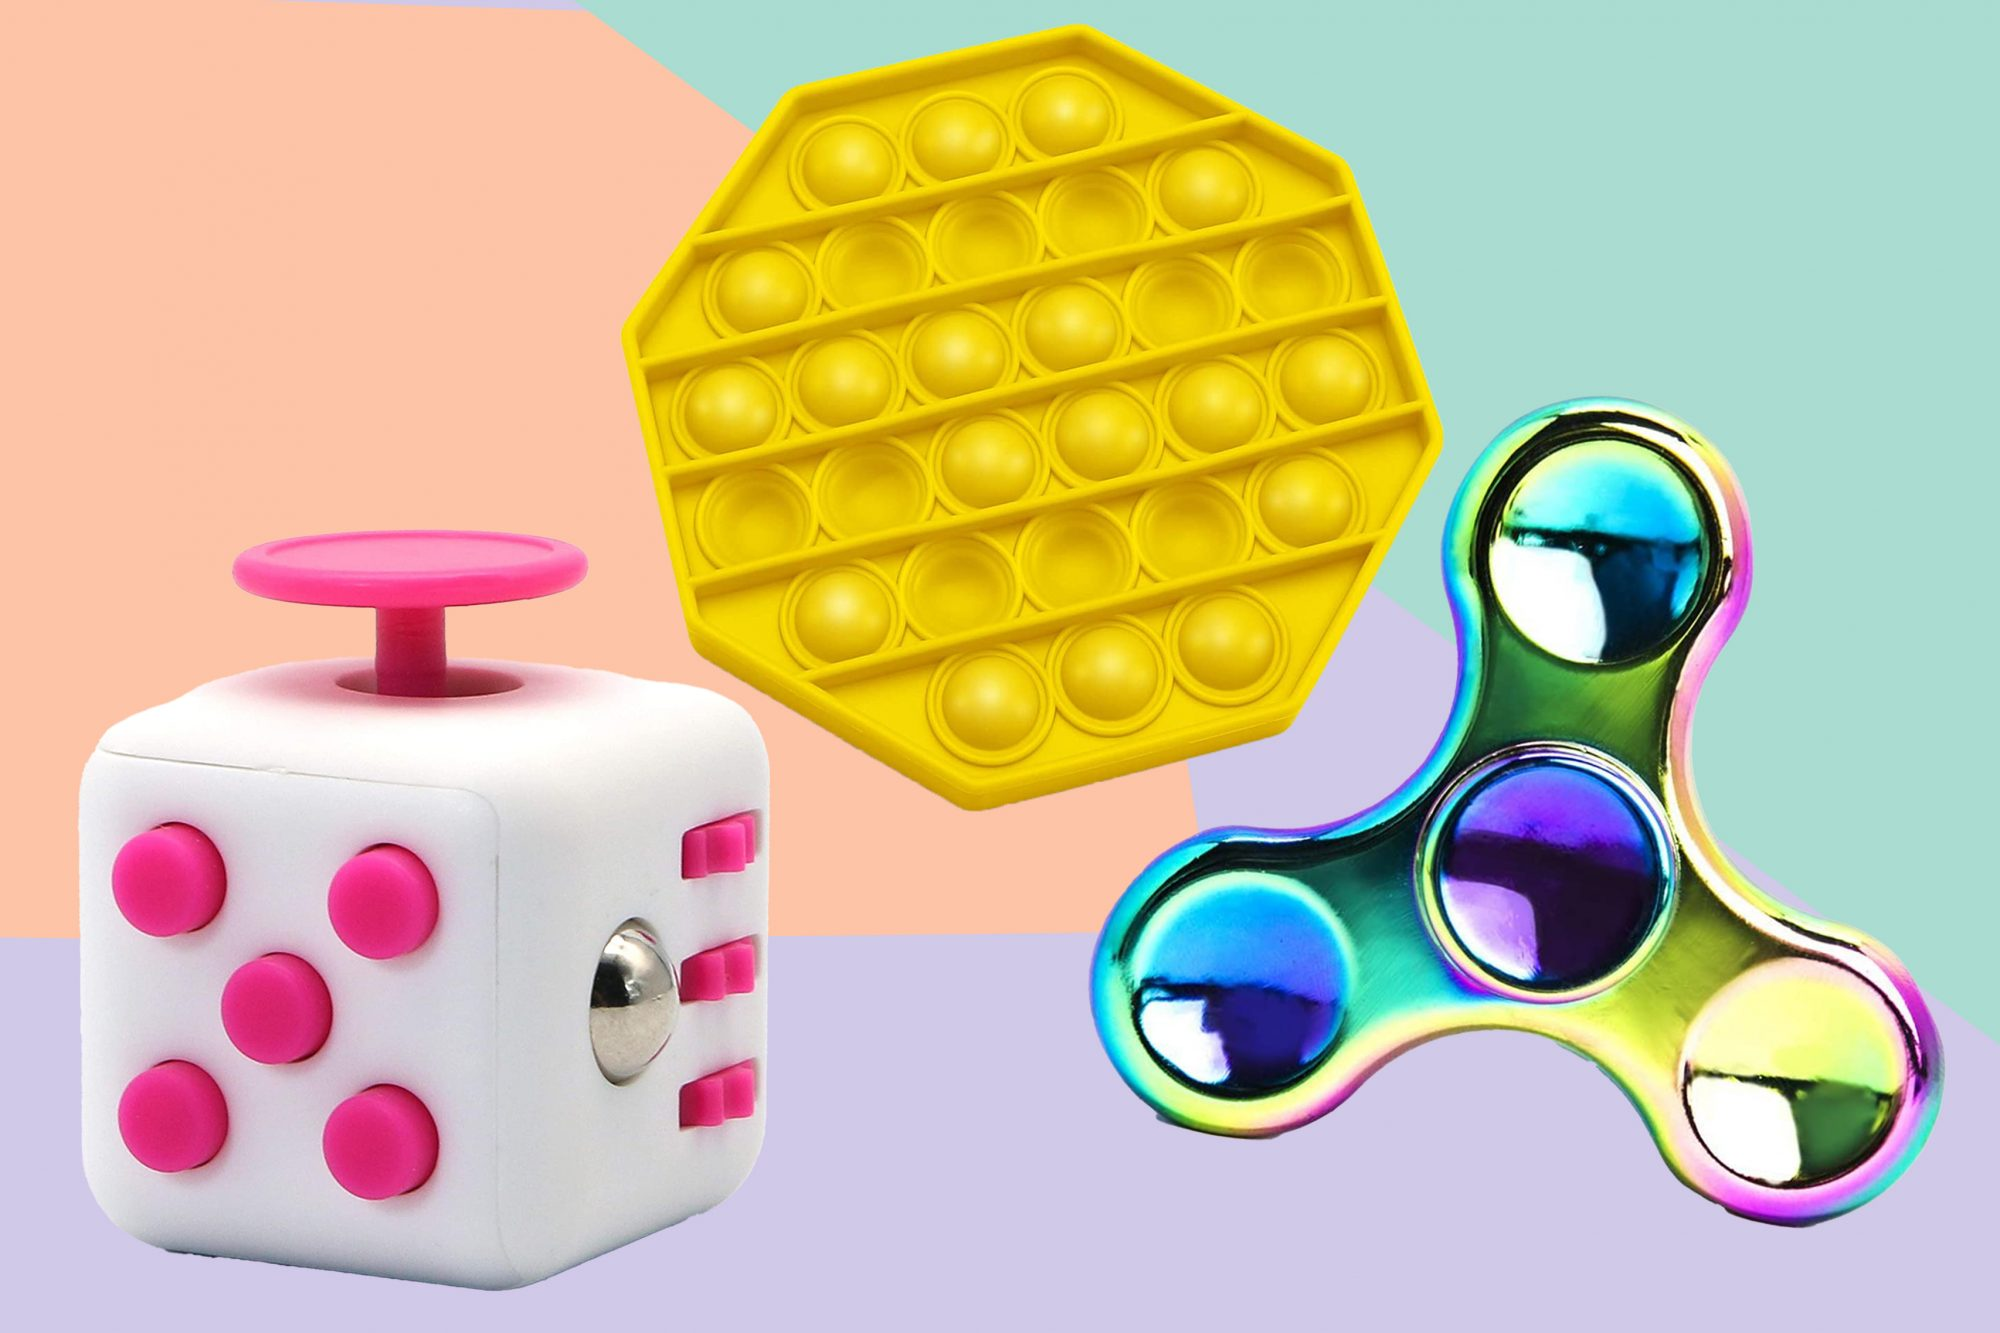toy: (57, 484, 848, 1285)
